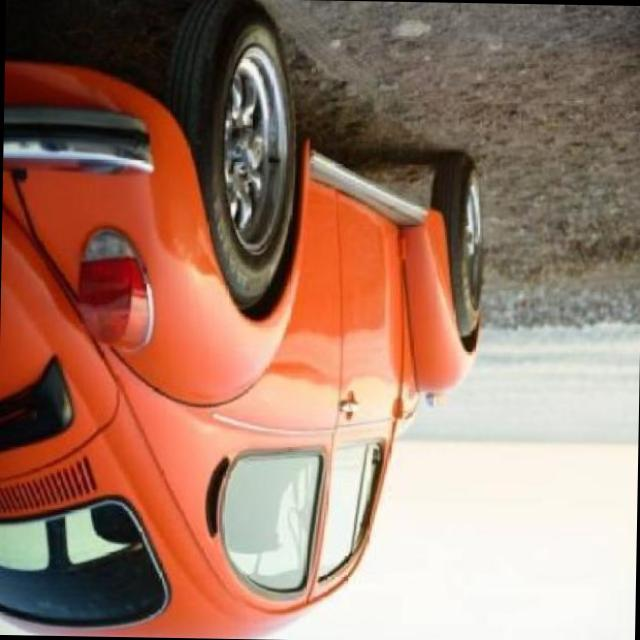car: (0, 5, 486, 640)
